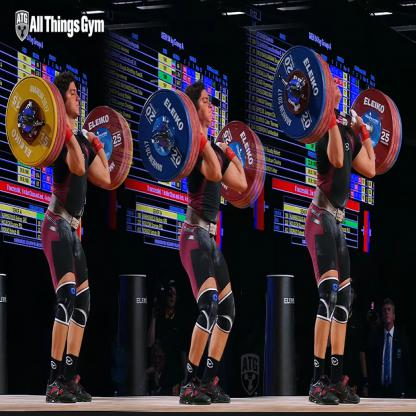Barbell: (134, 71, 196, 190), (268, 42, 332, 154), (2, 70, 66, 178)
